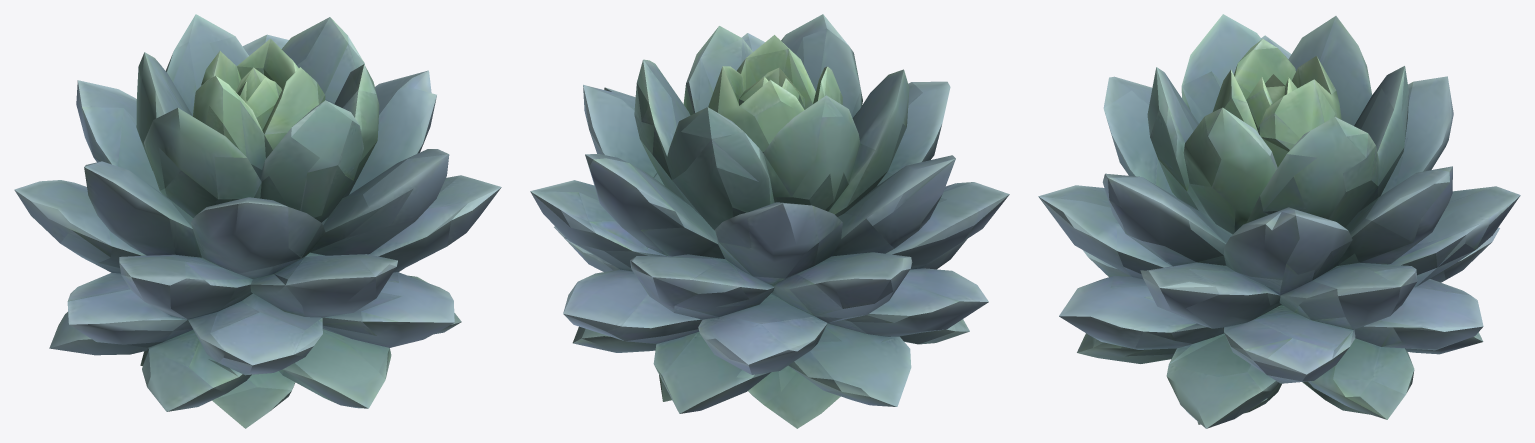
The model's file is d_busch.glb.
3 views of the same model, side by side, from view 1: azimuth 30°, elevation 25°; view 2: azimuth 150°, elevation 25°; view 3: azimuth 270°, elevation 25° (orthographic).
Bounding box in the file's own units: 1.88 × 1.45 × 1.9.
Materials: 1 (1 with a texture image).
